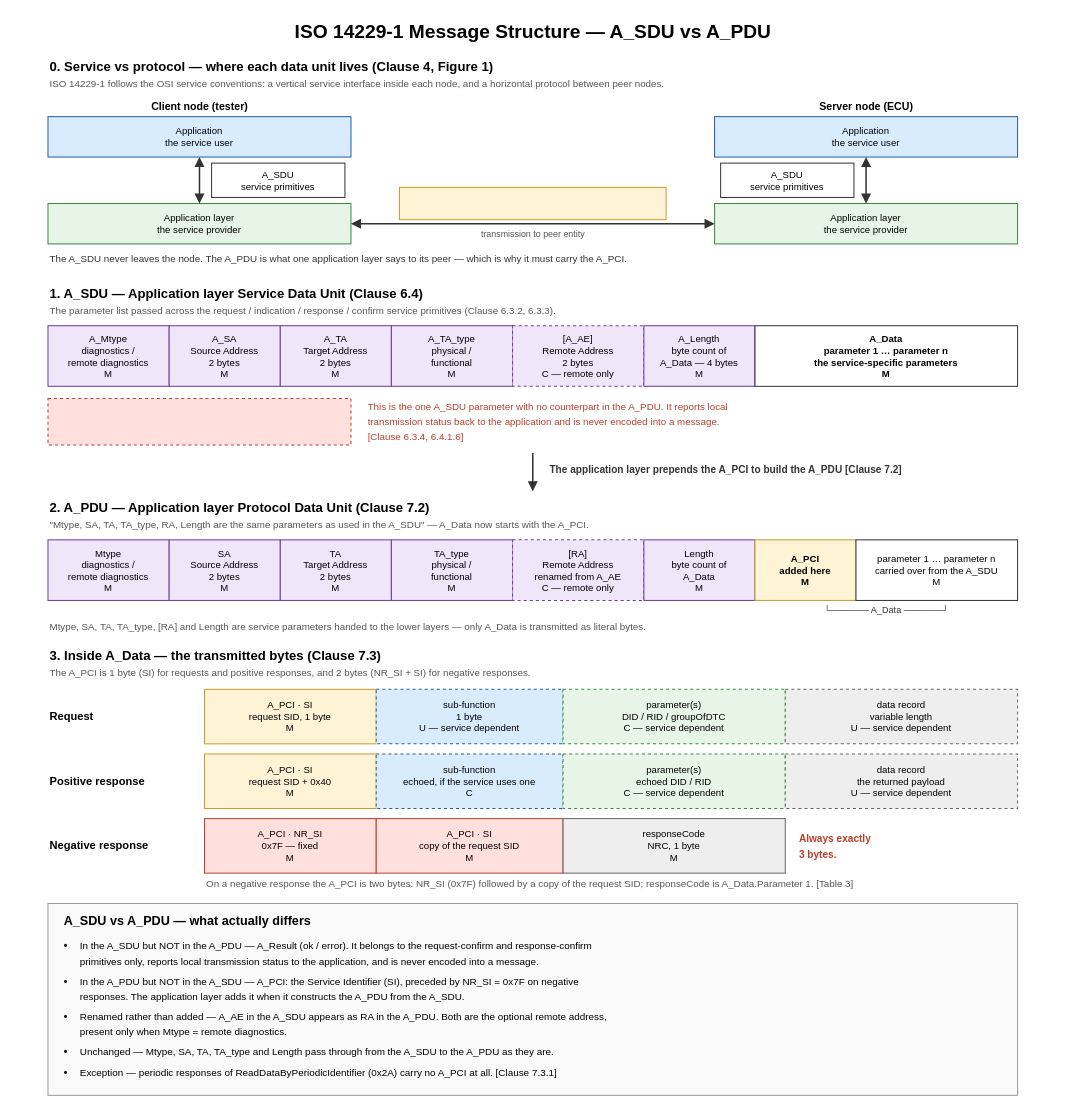
Some shapes in this 1065 by 1113 pixel diagram are drawn without their labels. Each missing label, with the centre of its shape:
"A_PDU = A_SDU + A_PCI" belongs at (x=532, y=203).
"A_Result — ok / error request-confirm / response-confirm primitives only" belongs at (x=199, y=421).
